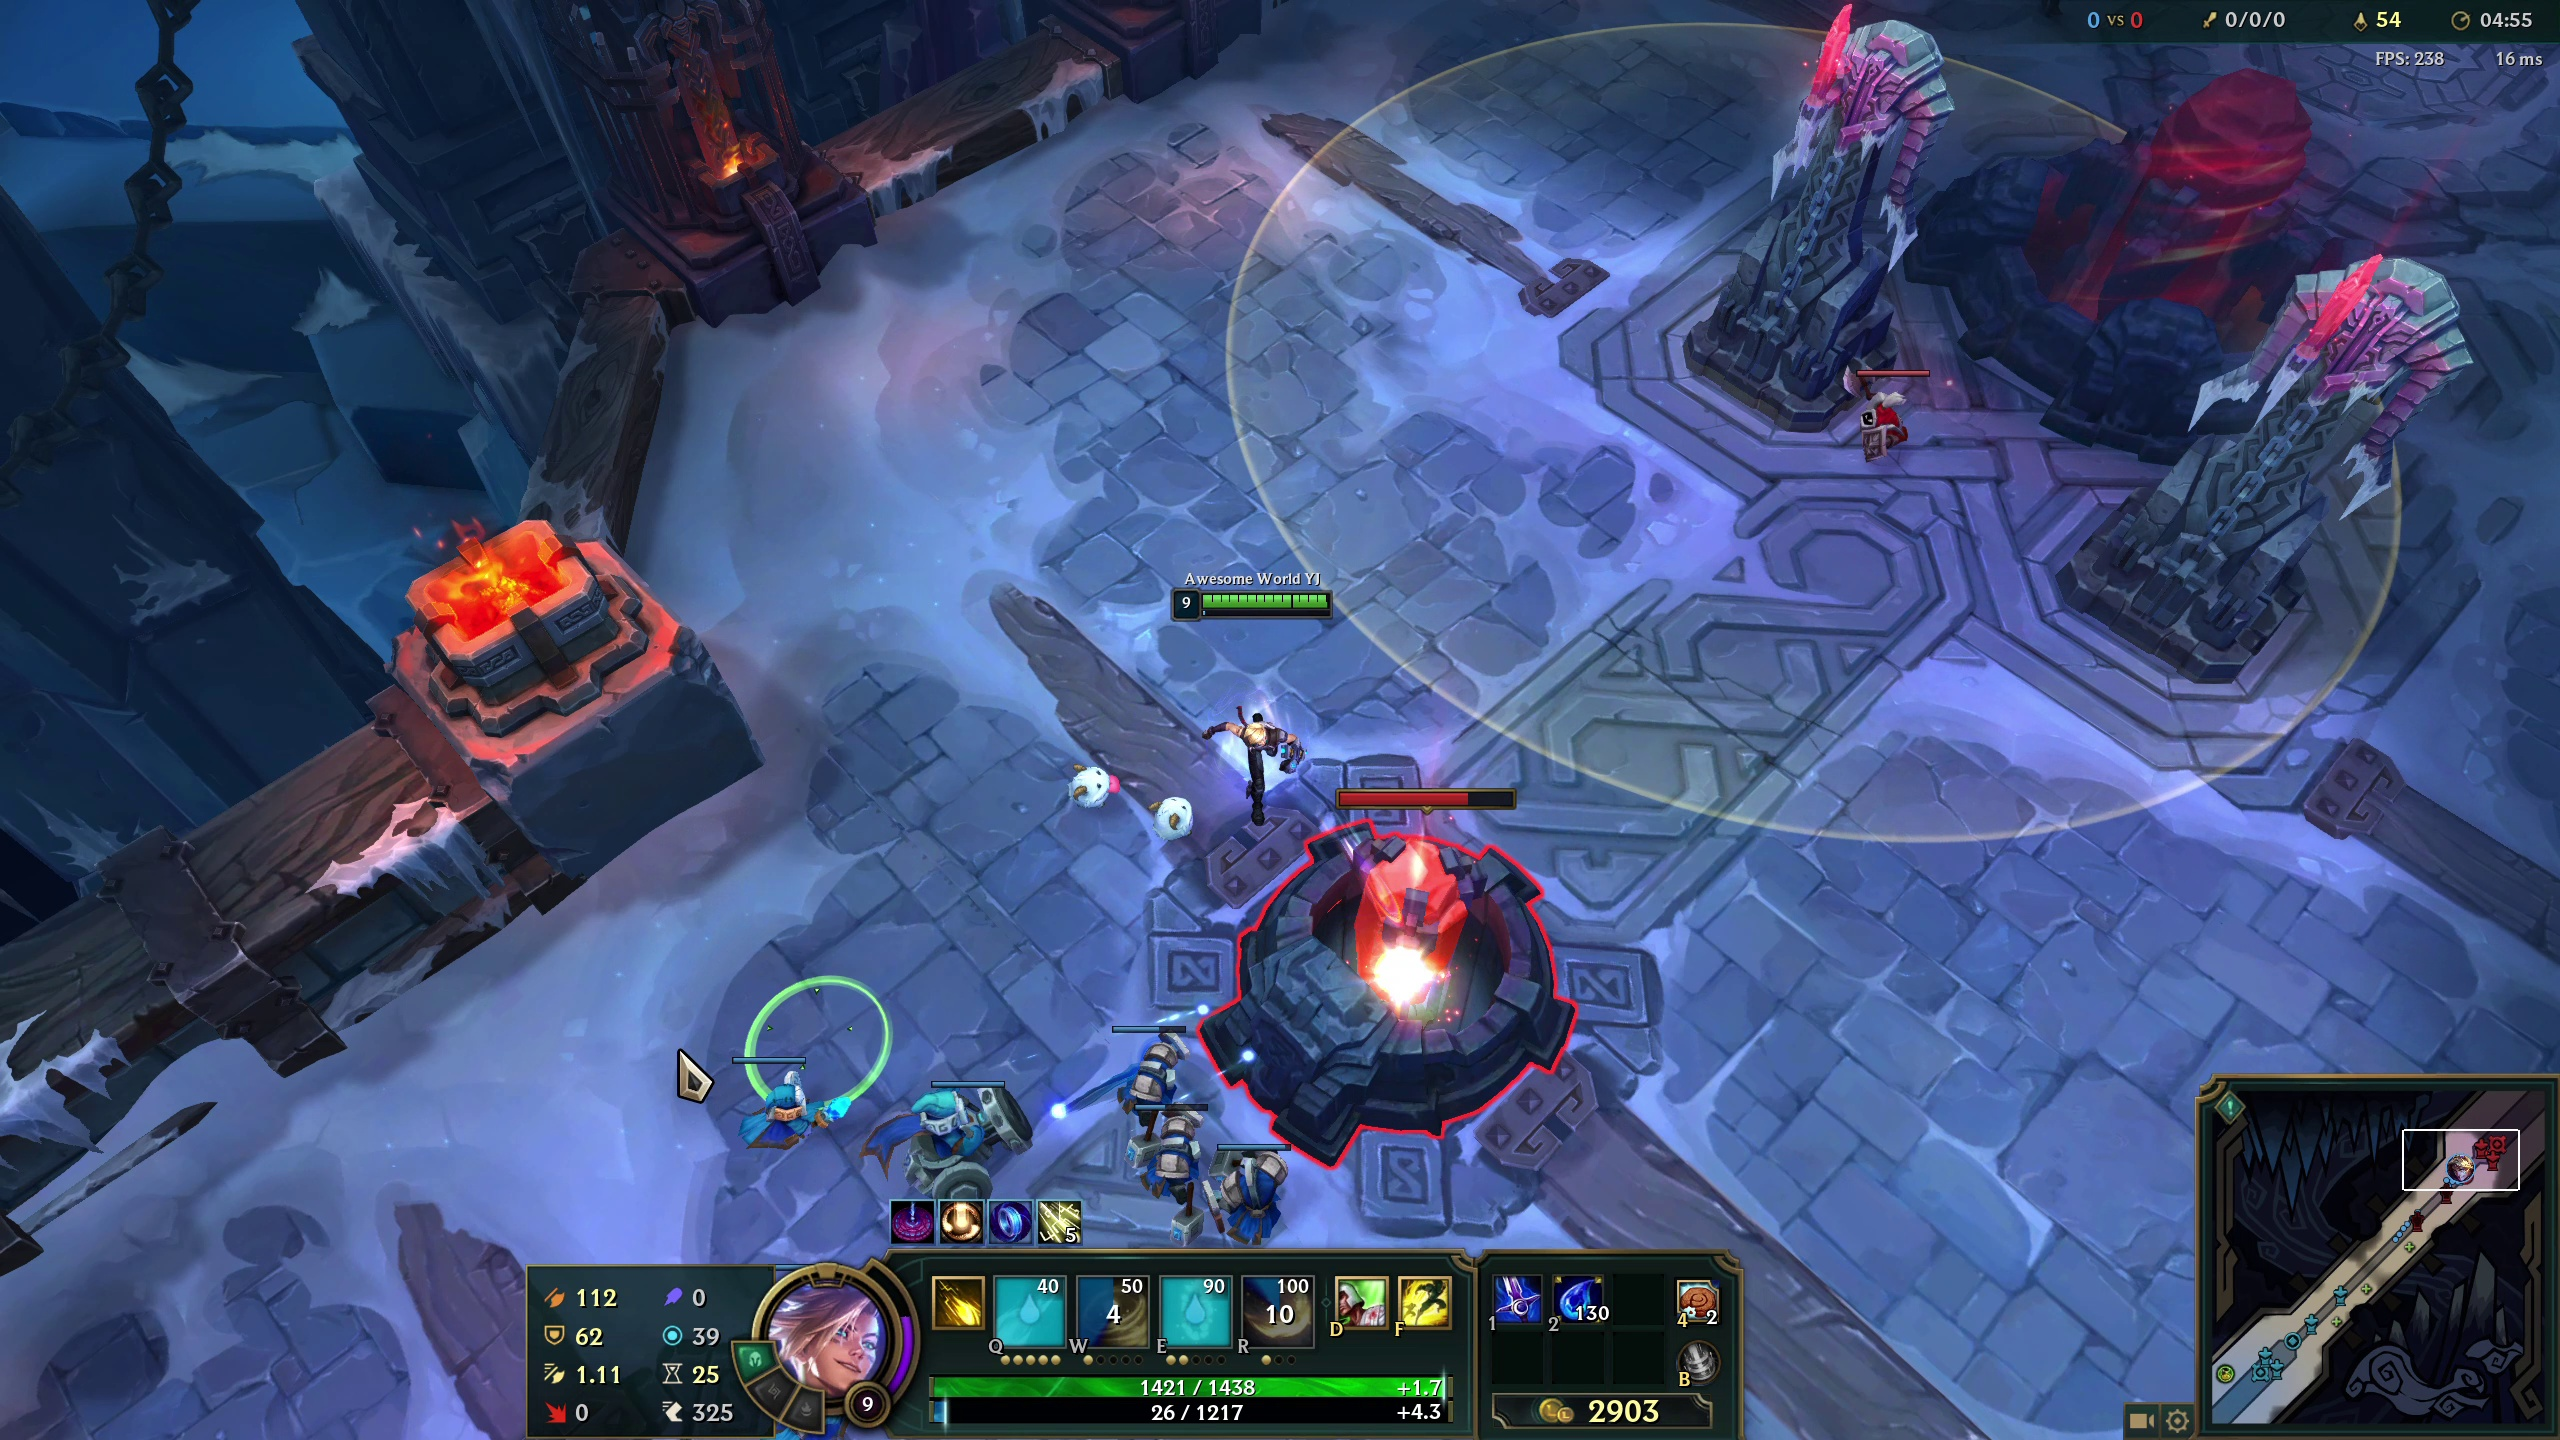EZ: (1002, 573, 1217, 869)
EnemyMinion: (1853, 346, 1946, 476)
Inhibitor: (1247, 832, 1565, 1127), (2022, 135, 2238, 380)
MyMinion: (702, 1048, 809, 1164), (1118, 1088, 1211, 1199), (1220, 1125, 1296, 1229)
MySuperMinnion: (890, 1094, 1050, 1199)
Turret: (2191, 318, 2342, 682), (1771, 86, 1865, 431)
